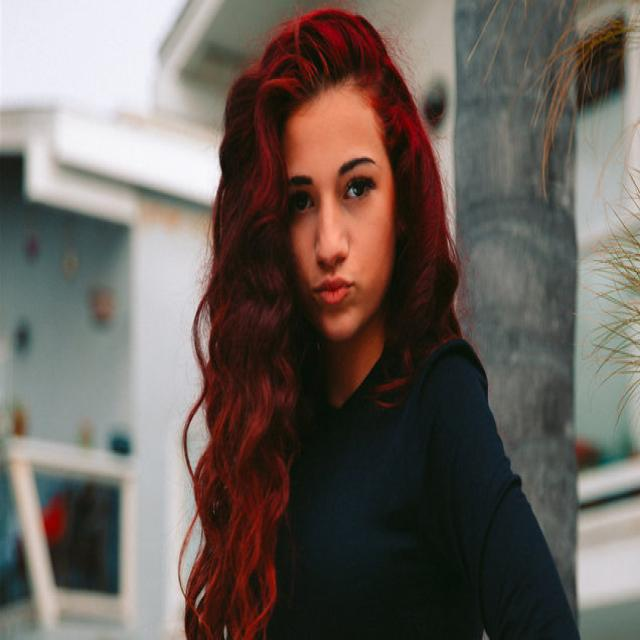human: (181, 6, 581, 640)
